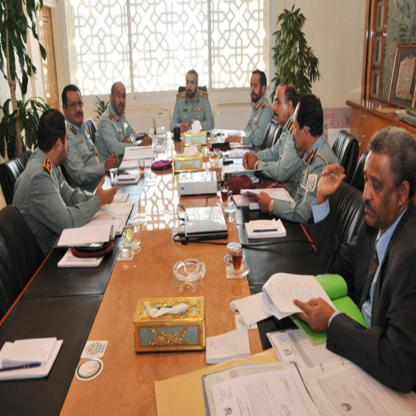face: (364, 155, 401, 228), (68, 92, 85, 124), (294, 114, 309, 149), (275, 90, 289, 126), (57, 130, 70, 165), (114, 85, 127, 115), (251, 75, 262, 102), (186, 73, 198, 96)
